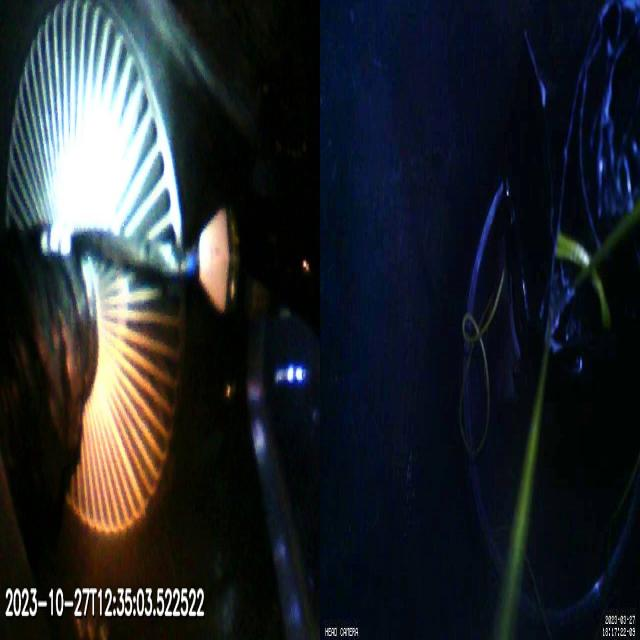head: (199, 208, 273, 312)
white-dots: (41, 218, 72, 258)
